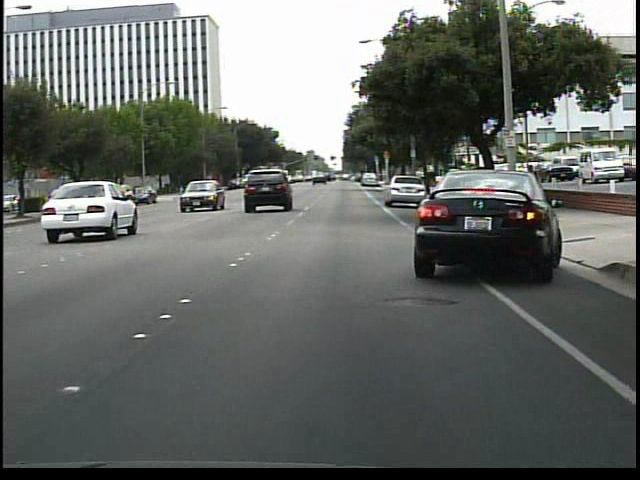person: (525, 163, 545, 211), (505, 164, 525, 209)
